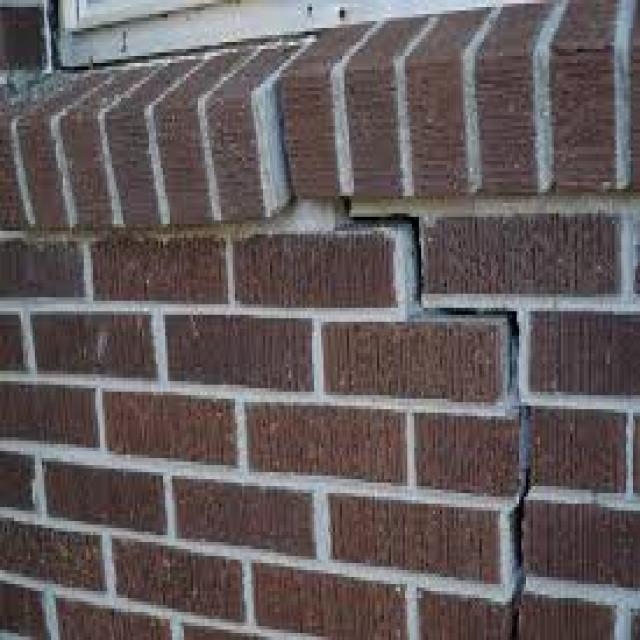Crack: (333, 189, 535, 636)
